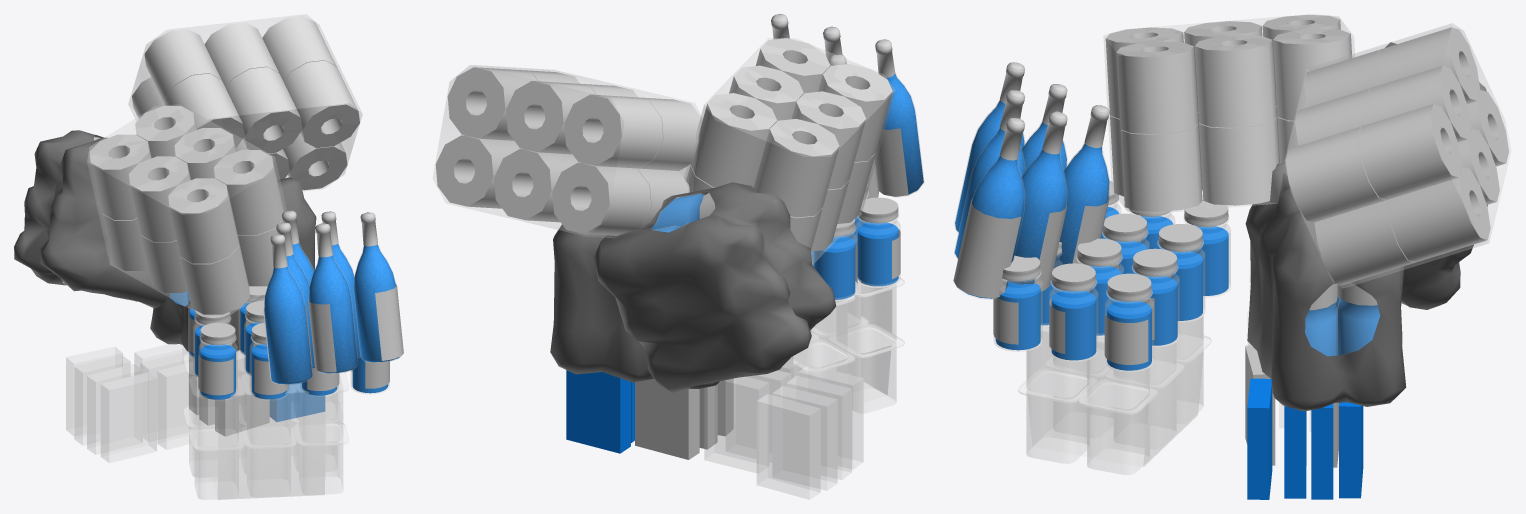
Rendered from products_cheap.fbx.
3 views of the same model, side by side, from view 1: azimuth 30°, elevation 25°; view 2: azimuth 150°, elevation 25°; view 3: azimuth 270°, elevation 25° (orthographic). The views are drawn at different scales.
Parts seen in each view (by area): view 1: paper2, paper, WineBottle, Sugar, YoghurtPack, WaterPack2, sweetjar, WaterPack; view 2: paper, WaterPack2, paper2, Sugar, WaterPack, YoghurtPack, sweetjar, WineBottle; view 3: paper, paper2, sweetjar, WaterPack, WineBottle, YoghurtPack, Sugar, WaterPack2.
Boxes of the visible parts, box(x1,y1,x2,y2) form: paper2: box(87, 104, 286, 316); paper: box(128, 14, 362, 190); WineBottle: box(263, 210, 403, 384); Sugar: box(66, 344, 324, 462); YoghurtPack: box(183, 350, 348, 499); WaterPack2: box(14, 130, 169, 307); sweetjar: box(188, 276, 389, 400); WaterPack: box(150, 177, 316, 352); paper: box(432, 65, 702, 237); WaterPack2: box(594, 182, 836, 392); paper2: box(684, 38, 895, 264); Sugar: box(566, 359, 863, 499); WaterPack: box(550, 225, 719, 388); YoghurtPack: box(779, 277, 904, 413); sweetjar: box(677, 165, 900, 300); WineBottle: box(771, 14, 924, 199); paper: box(1284, 23, 1511, 288); paper2: box(1103, 14, 1354, 213); sweetjar: box(993, 180, 1230, 371); WaterPack: box(1245, 163, 1406, 411); WineBottle: box(953, 62, 1109, 299); YoghurtPack: box(1018, 298, 1211, 474); Sugar: box(1245, 276, 1363, 499); WaterPack2: box(1385, 42, 1487, 309).
Size of the model in its own units: 34.97 by 37.03 by 43.64.
